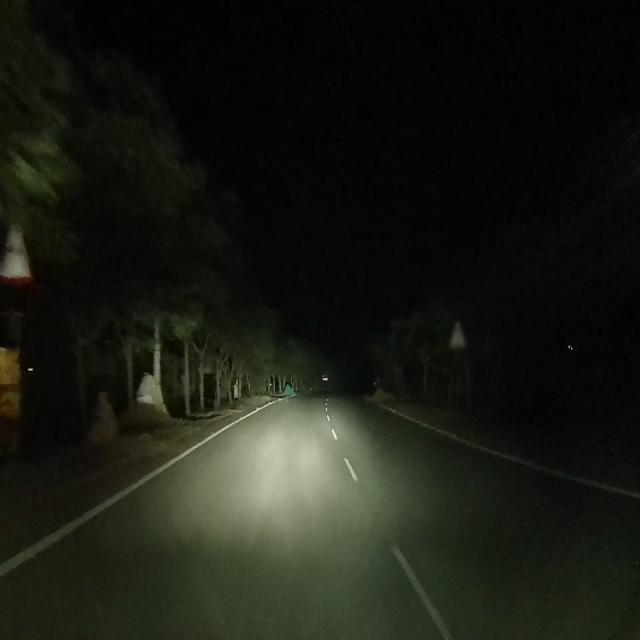right-hand-curve: (0, 222, 31, 281)
